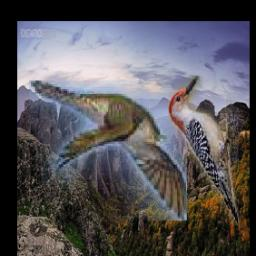Cuckoo: (29, 81, 187, 221)
Woodpecker: (168, 76, 239, 225)
